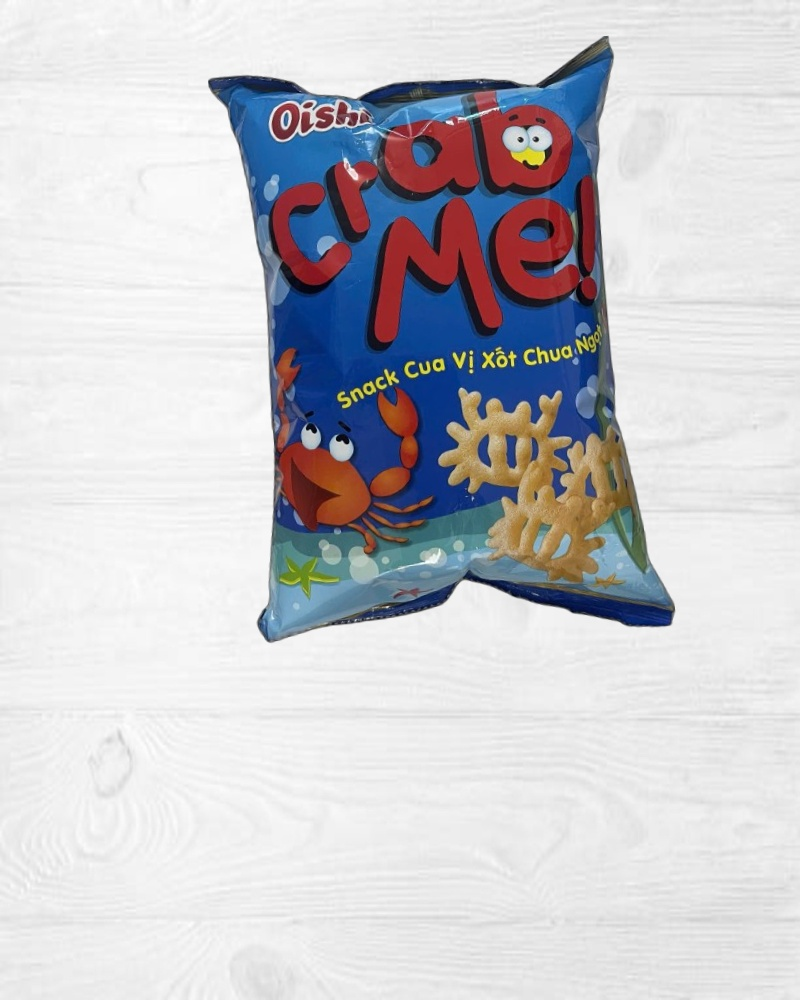Snack cua: (208, 35, 676, 656)
